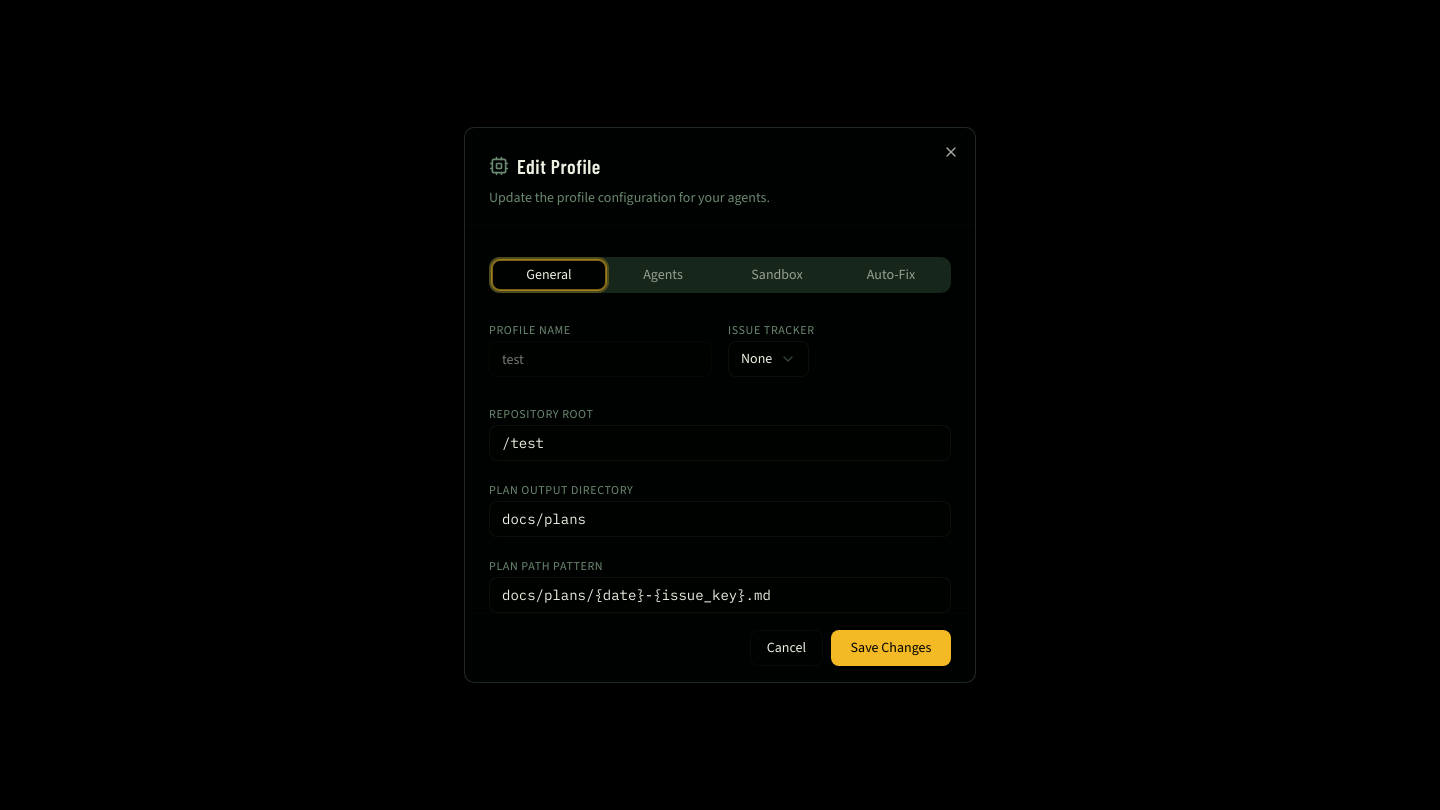
HostChipInput via Sandbox tab › should add a host when pressing Enter
The width and height of the screenshot is (1440, 810).
Step 1. Click the tab "Sandbox" → (777, 275), box [720,260,834,290]
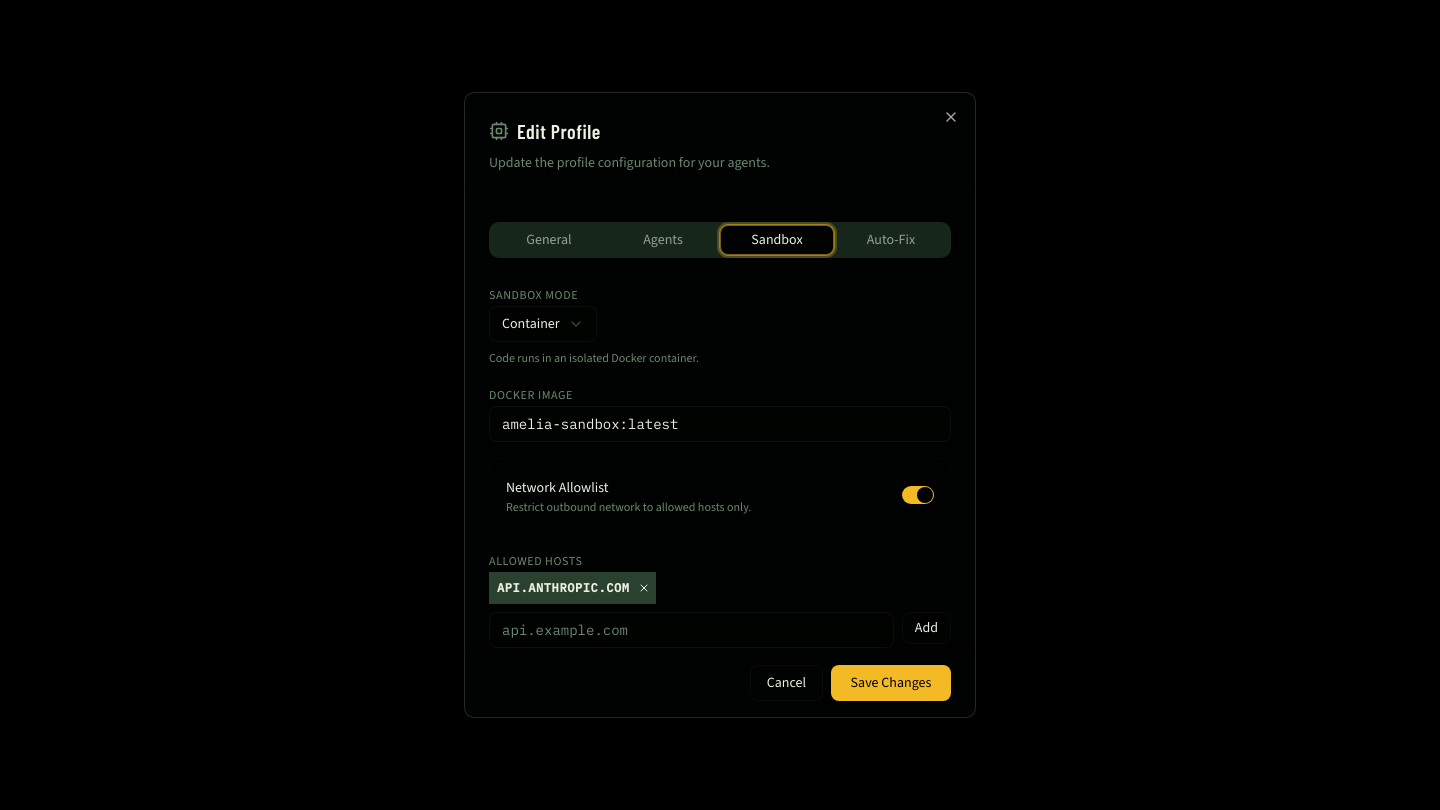
Step 2. Type "openrouter.ai" into the field with placeholder "api.example.com" → (691, 630), box [489,612,894,648]
Then press Enter
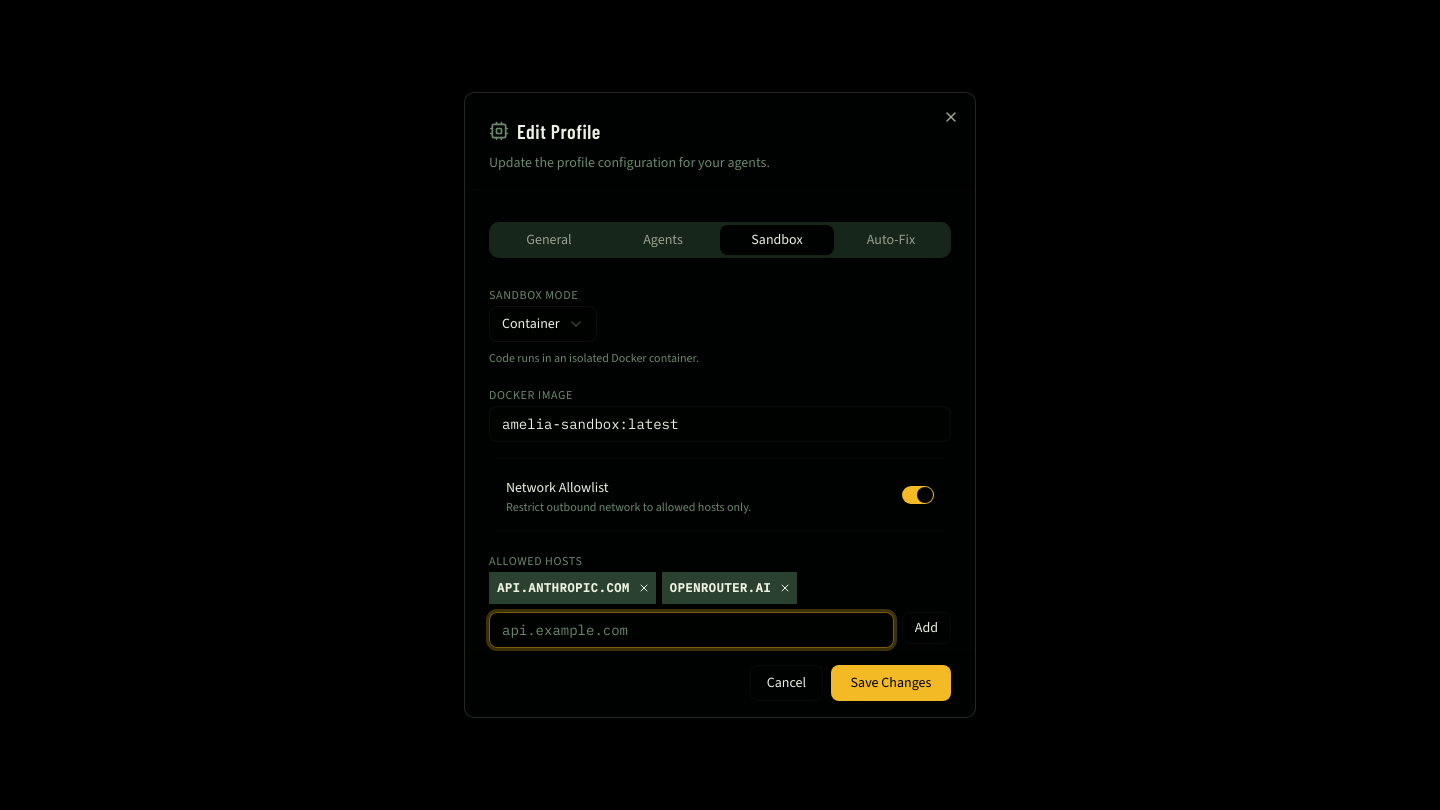
Expected: the text "openrouter.ai" is shown, [662,572,797,604]
